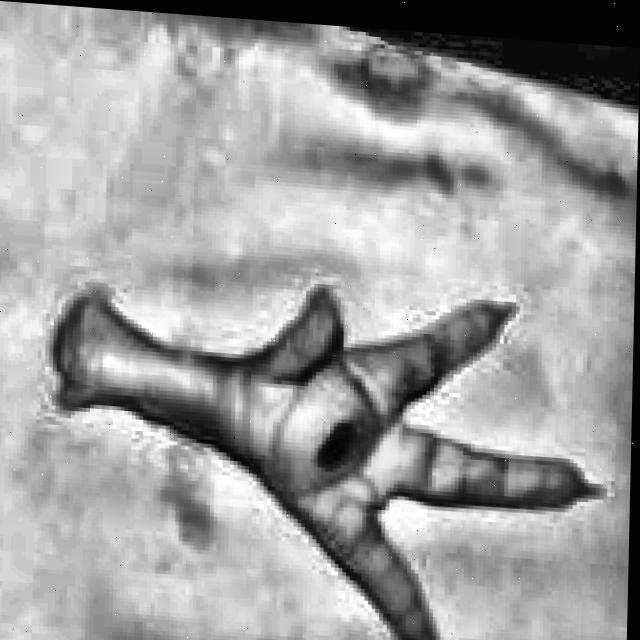Bumble foot: (38, 254, 605, 640)
